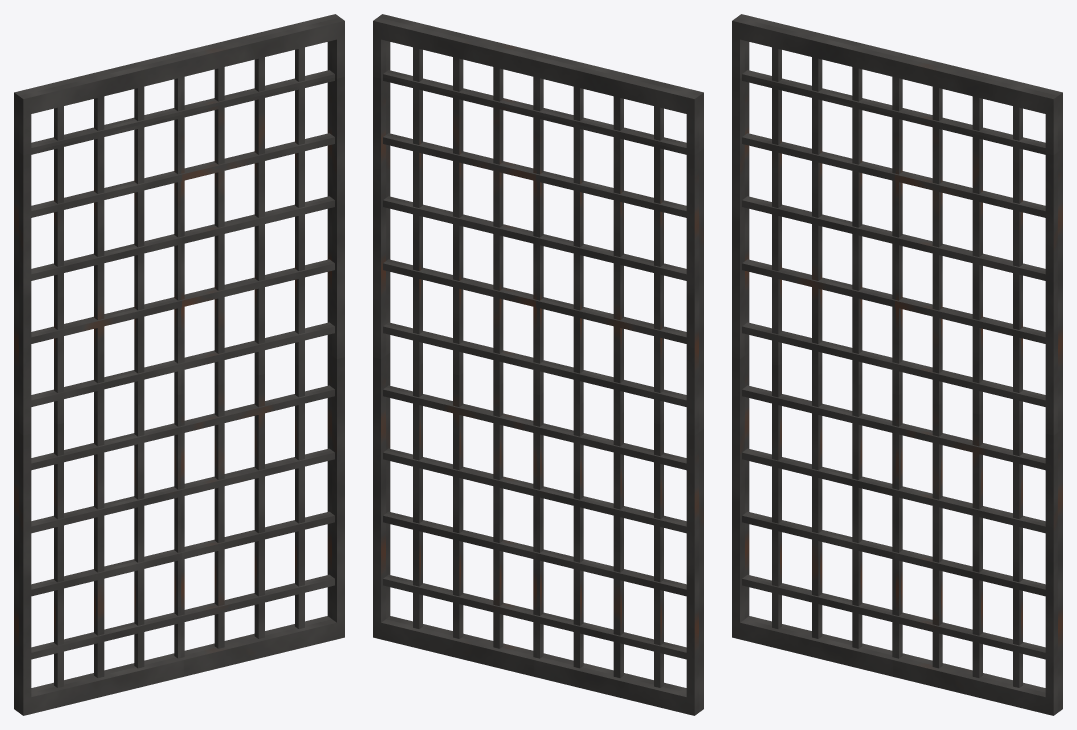
File: Dungeon_Grate_1.gltf
The picture shows the model from 3 angles, left to right: view 1: azimuth 30°, elevation 25°; view 2: azimuth 150°, elevation 25°; view 3: azimuth 330°, elevation 25°; orthographic projection.
Visible parts, largest first — view 1: Dungeon_Grate_1; view 2: Dungeon_Grate_1; view 3: Dungeon_Grate_1.
Boxes of the visible parts, <box> form: Dungeon_Grate_1: <box>14,14,344,715</box>; Dungeon_Grate_1: <box>373,14,703,715</box>; Dungeon_Grate_1: <box>732,14,1062,715</box>.
Size of the model in its own units: 1.2 by 2.2 by 0.06.
Materials: 1 (1 with a texture image).
